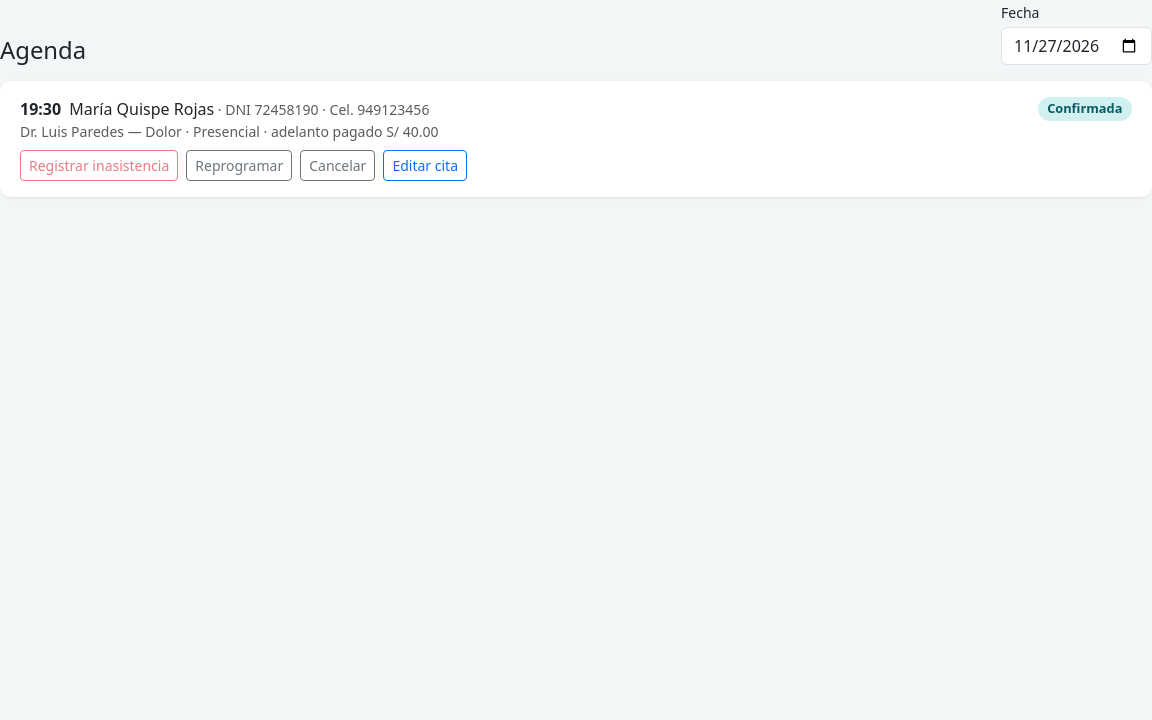
Test case: CitasDelDia: cancelar una cita con adelanto pagado › permite marcar que cancela la clínica y avisa que se devuelve
Click the button "Cancelar".
click(338, 166)  # box [300, 150, 375, 181]
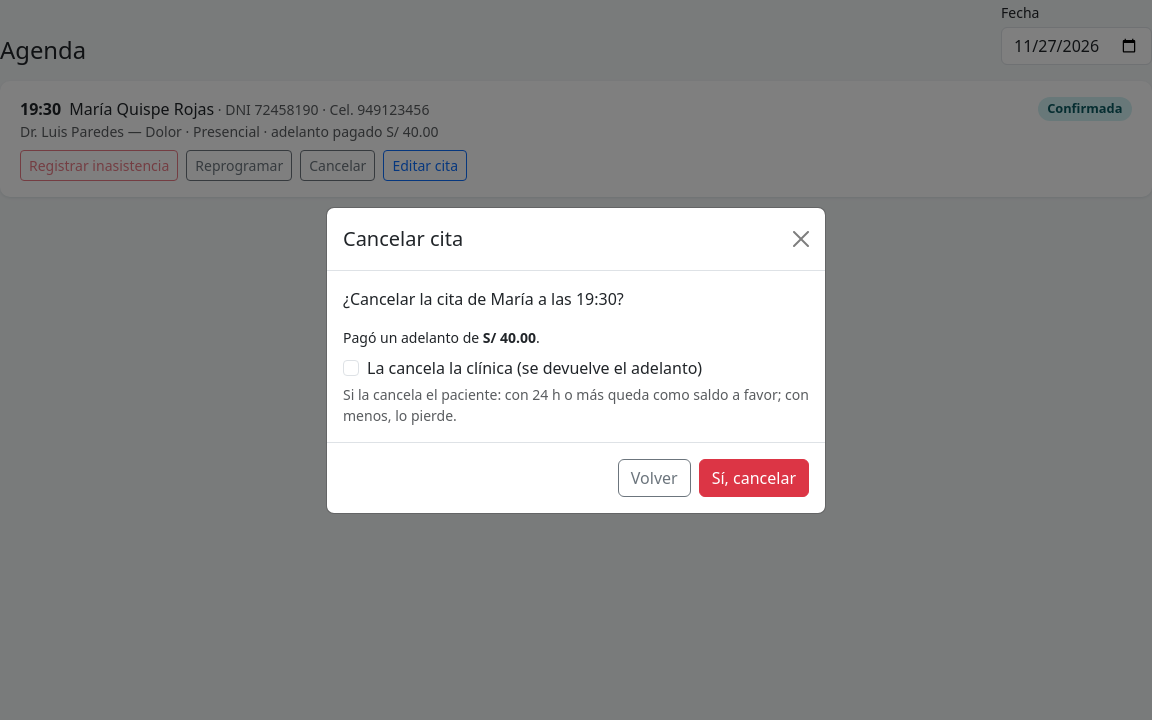
expect the text "Pagó un adelanto de S/ 40.00." is shown: met, box [343, 328, 540, 346]
Click the checkbox labelled "La cancela la clínica (se devuelve el adelanto)".
click(351, 368)  # box [343, 360, 359, 376]
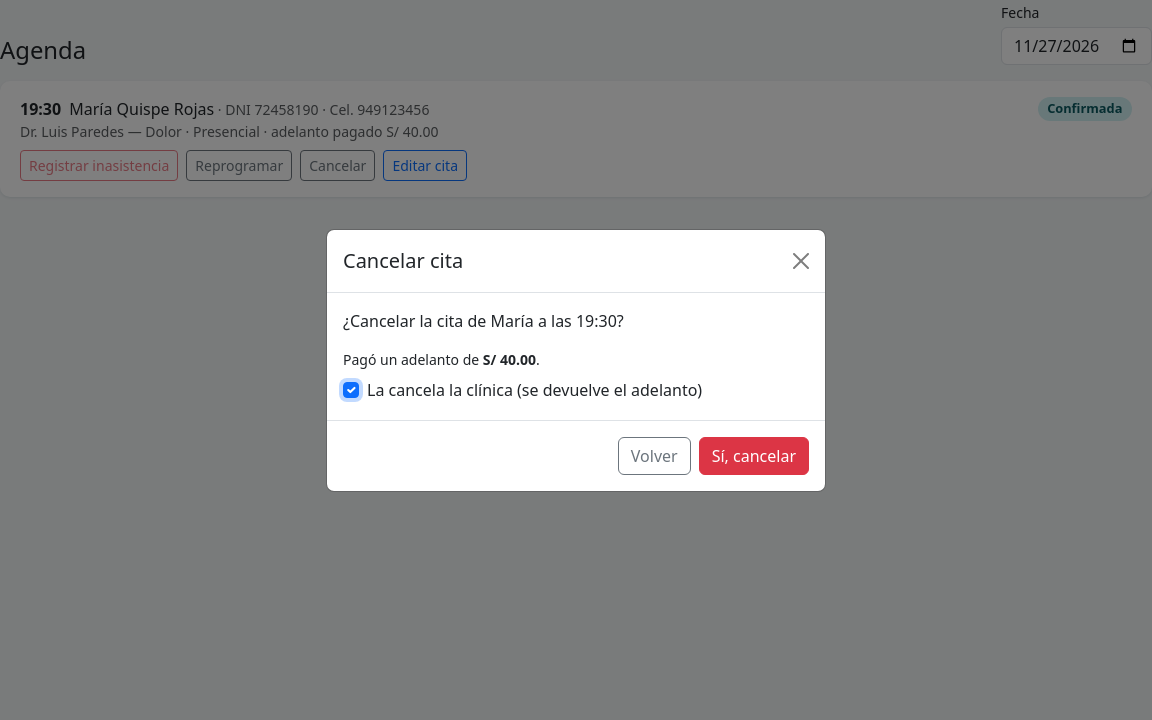
Click the button "Sí, cancelar".
click(754, 456)  # box [699, 436, 809, 474]
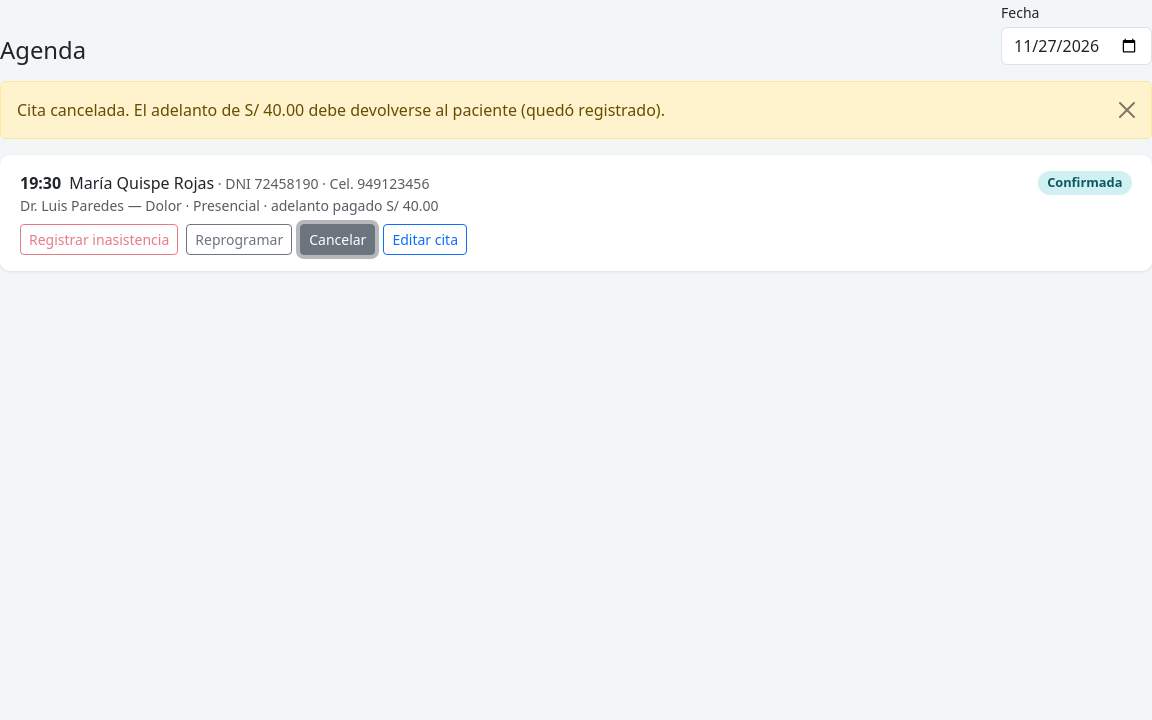
expect the text "debe devolverse al paciente" is shown: met, box [17, 99, 665, 121]
